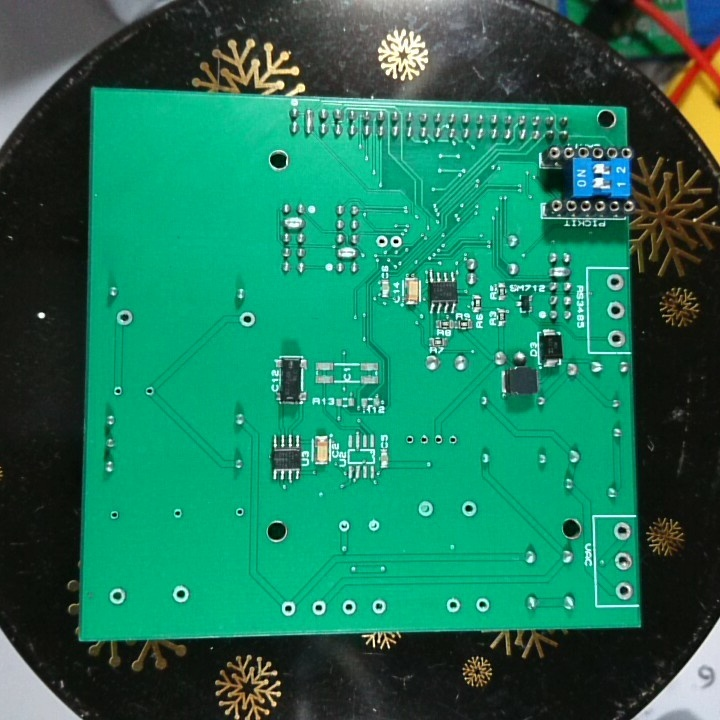F: (601, 272, 627, 296), (609, 519, 633, 543), (113, 306, 137, 330), (236, 309, 261, 331), (613, 580, 636, 603), (604, 326, 628, 348), (171, 583, 192, 608), (604, 300, 626, 323), (613, 549, 634, 572), (279, 596, 299, 620), (370, 596, 390, 620), (309, 595, 328, 620), (416, 497, 436, 520), (107, 586, 130, 606), (339, 595, 358, 619), (460, 500, 479, 520), (444, 597, 464, 614), (336, 518, 354, 536), (107, 508, 125, 526), (372, 232, 389, 251), (474, 596, 491, 615), (388, 232, 404, 251), (365, 517, 381, 535), (142, 384, 157, 403), (232, 503, 247, 521), (169, 506, 185, 522), (111, 383, 124, 401), (433, 430, 444, 449), (417, 431, 430, 446), (404, 433, 415, 448), (447, 431, 456, 447)
P: (544, 263, 575, 280), (302, 105, 316, 139), (280, 215, 307, 230), (336, 245, 359, 260)
